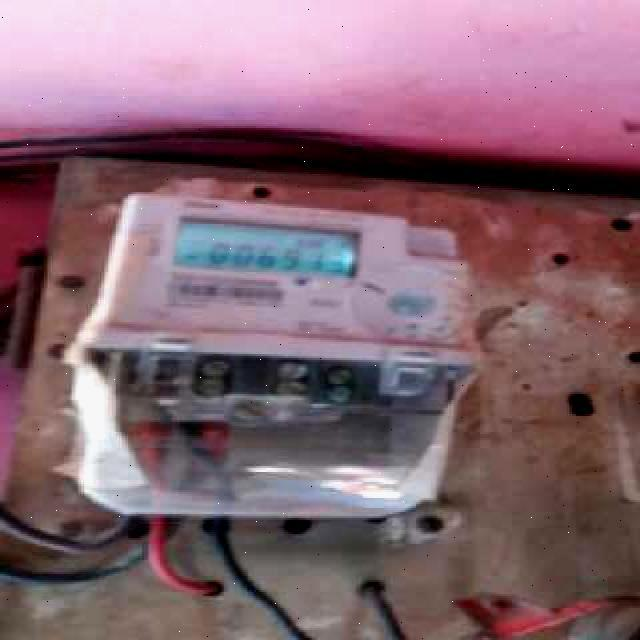LCD: (170, 213, 369, 287)
